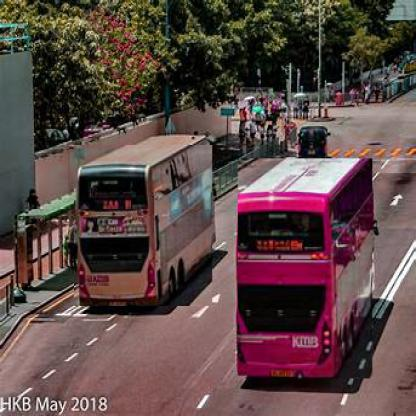bus: (239, 159, 375, 381), (75, 146, 214, 308)
car: (303, 128, 330, 158)
